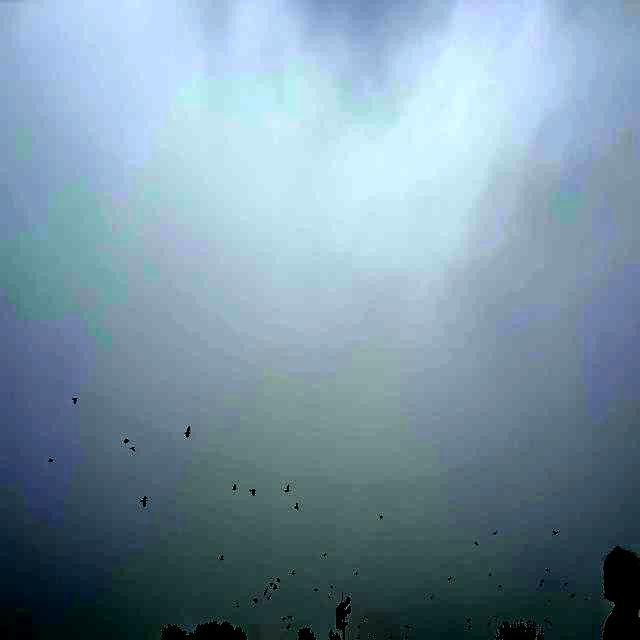bird: (68, 384, 88, 414), (550, 522, 567, 544), (488, 525, 506, 543), (42, 452, 58, 472), (138, 490, 150, 513), (118, 435, 136, 450), (228, 478, 240, 497), (180, 425, 193, 442), (282, 482, 292, 498), (374, 510, 388, 521), (292, 502, 304, 514), (248, 482, 256, 499)
